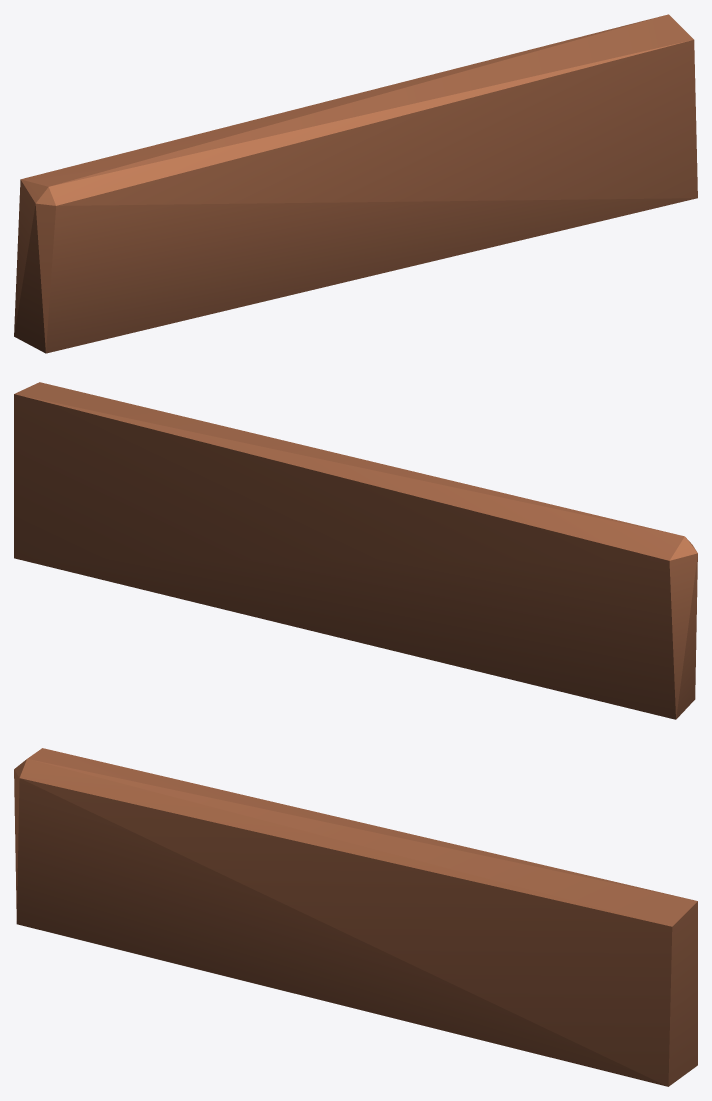
The model's file is fencemiddleclean.glb.
3 views of the same model, one above another, from view 1: azimuth 30°, elevation 25°; view 2: azimuth 150°, elevation 25°; view 3: azimuth 330°, elevation 25° (orthographic).
Parts seen in each view (by area): view 1: fencemiddleclean; view 2: fencemiddleclean; view 3: fencemiddleclean.
Boxes of the visible parts, x1=… form: fencemiddleclean: x1=14, y1=14, x2=697, y2=353; fencemiddleclean: x1=14, y1=382, x2=697, y2=719; fencemiddleclean: x1=14, y1=748, x2=697, y2=1086.
Bounding box in the file's own units: 1.12 × 0.2644 × 0.0861.
1 material, 1 textured.
